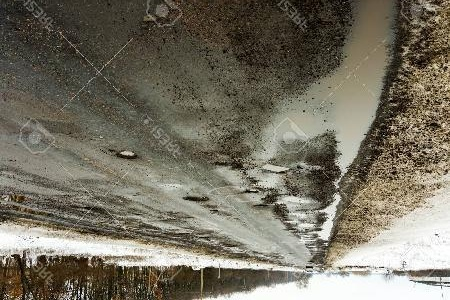pothole: (260, 163, 291, 175), (114, 149, 137, 161), (180, 194, 209, 203), (245, 187, 259, 194)
